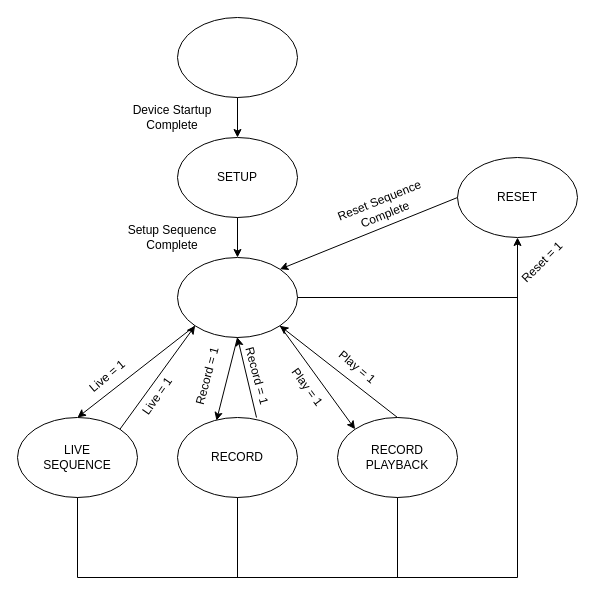
Image size: 602x603. Some labels were removed from this diagram. The box of each missing label's shape, as (x1, y1, x2, y2) in pixels:
IDLE: (176, 256, 298, 338)
POWER ON: (176, 16, 298, 98)
